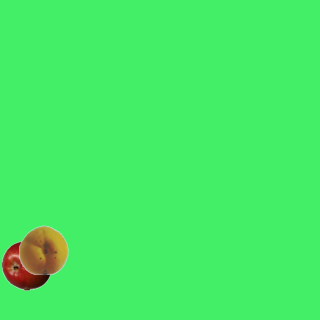Apple Braeburn: (1, 240, 51, 290)
Peach 2: (18, 224, 68, 274)
